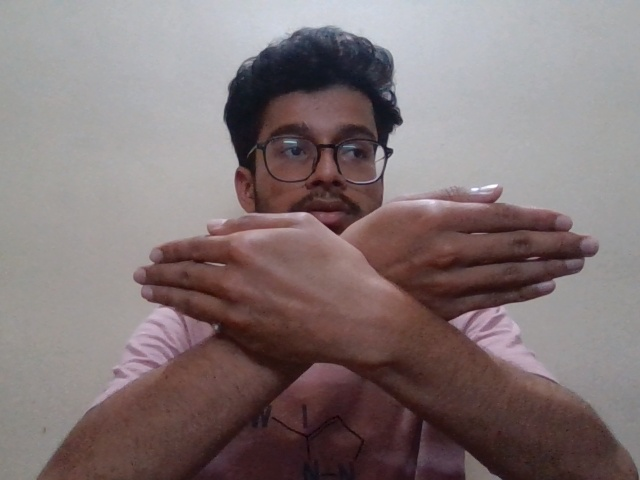feel: (132, 151, 600, 378)
